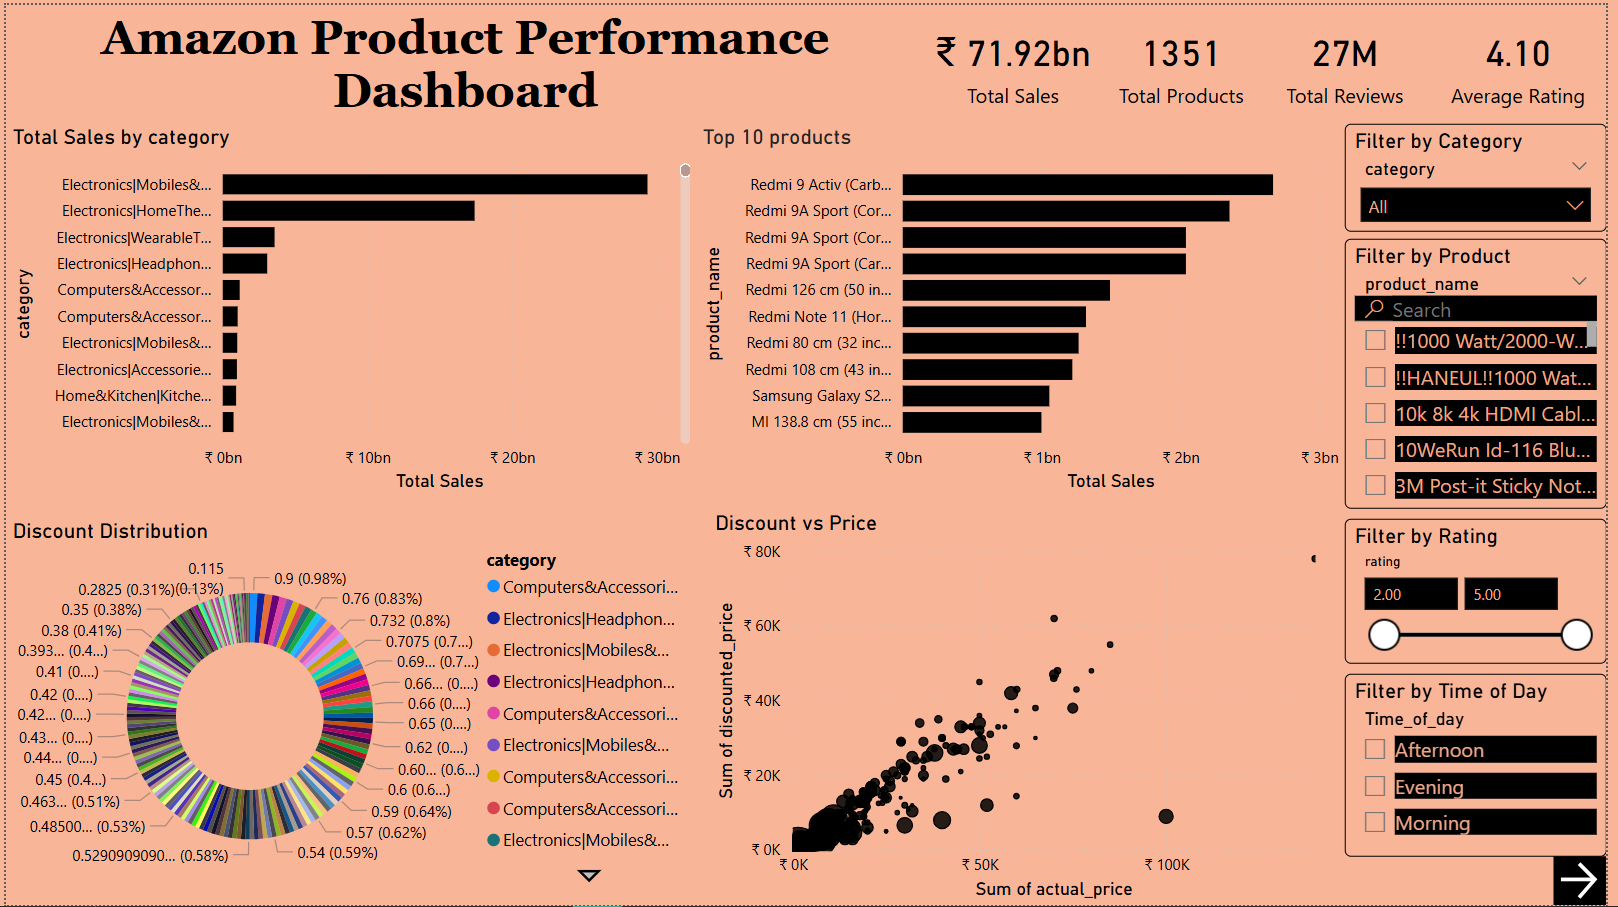

The dashboard page shown, as its layout file describes it:
{"tool":"powerbi","page":{"name":"Amazon Product Performance","canvas":[1280,720],"ordinal":0},"visuals":[{"type":"card","fields":{"Values":["amazon.Total Sales"]},"box":[733.7,0,141.9,95.3],"z":0},{"type":"card","fields":{"Values":["amazon.Total Products"]},"box":[875.6,0,127.9,95.3],"z":1},{"type":"card","fields":{"Values":["amazon.Total Reviews"]},"box":[1003.5,0,134.9,95.3],"z":2},{"type":"card","fields":{"Values":["amazon.Average Rating"]},"box":[1138.4,0,141.9,95.3],"z":3},{"type":"textbox","box":[0,0,733.7,95.3],"z":6},{"type":"barChart","fields":{"Category":["amazon.category"],"Y":["amazon.Total Sales"]},"box":[0,95.3,552.3,298.8],"z":7},{"type":"barChart","title":"Top 10 products","fields":{"Category":["amazon.product_name"],"Y":["amazon.Total Sales"]},"box":[552.4,94.9,518.3,299.3],"z":8},{"type":"scatterChart","title":"Discount vs Price","fields":{"X":["Sum(amazon.actual_price)"],"Y":["Sum(amazon.discounted_price)"],"Size":["Sum(amazon.rating_count)"],"Category":["amazon.product_name"]},"box":[562.1,404,508.6,316.3],"z":9},{"type":"donutChart","title":"Discount Distribution","fields":{"Category":["amazon.category"],"Y":["amazon.Average Discount"]},"box":[0,410.5,552.3,298.8],"z":10},{"type":"slicer","title":"Filter by Category","fields":{"Values":["amazon.category"]},"box":[1070.9,95.3,209.3,86],"z":11},{"type":"slicer","title":"Filter by Product","fields":{"Values":["amazon.product_name"]},"box":[1070.9,187,209.1,216.4],"z":12},{"type":"slicer","title":"Filter by Rating","fields":{"Values":["amazon.rating"]},"box":[1070.9,410.8,209.1,116.1],"z":13},{"type":"slicer","title":"Filter by Time of Day","fields":{"Values":["amazon.Time_of_day"]},"box":[1070.9,535.5,209.1,145.5],"z":14},{"type":"actionButton","box":[1238,680.8,42,39.6],"z":15}]}

Visuals, with their boxes in screenshot pixels (x1, y1, x2, y2), scaled from the page's 1280x720 canvas onto the 1618x907 screenshot:
card - amazon.Total Sales: 927/0/1107/120
card - amazon.Total Products: 1107/0/1268/120
card - amazon.Total Reviews: 1268/0/1439/120
card - amazon.Average Rating: 1439/0/1617/120
textbox: 0/0/927/120
barChart - amazon.category x amazon.Total Sales: 0/120/698/496
"Top 10 products" barChart: 698/120/1353/497
"Discount vs Price" scatterChart: 711/509/1353/906
"Discount Distribution" donutChart: 0/517/698/894
"Filter by Category" slicer: 1354/120/1617/228
"Filter by Product" slicer: 1354/236/1617/508
"Filter by Rating" slicer: 1354/517/1617/664
"Filter by Time of Day" slicer: 1354/675/1617/858
actionButton: 1565/858/1617/906
